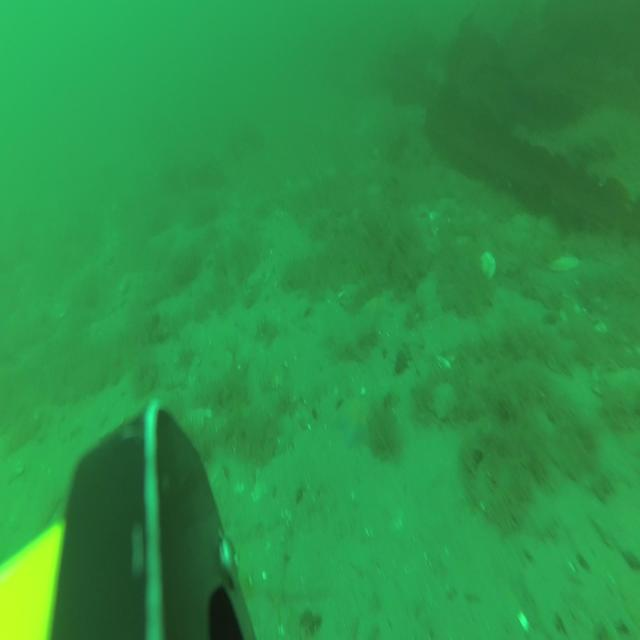scallop: (430, 378, 457, 420), (548, 253, 578, 271), (481, 250, 495, 279)
starfish: (339, 387, 373, 441), (366, 296, 386, 324)
